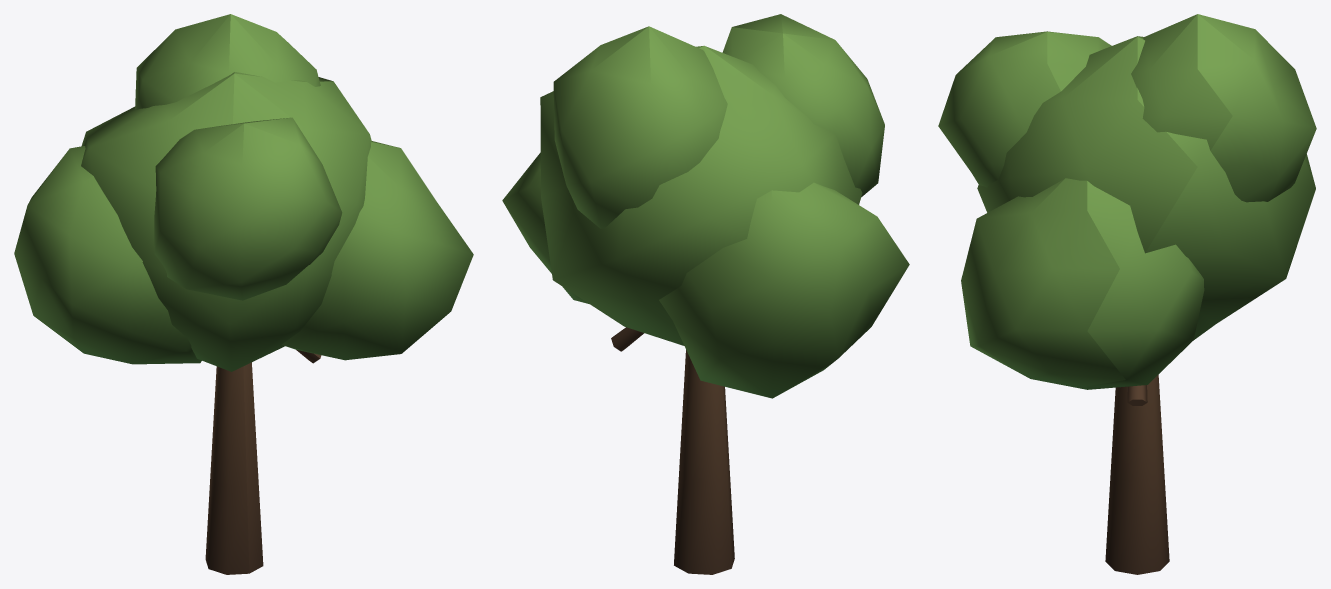
Rendered from tree-broadleaf.glb.
3 renders of one model, left to right at view 1: azimuth 30°, elevation 25°; view 2: azimuth 150°, elevation 25°; view 3: azimuth 270°, elevation 25°, orthographic. The views are drawn at different scales.
Visible parts, largest first — view 1: Broadleaf; view 2: Broadleaf; view 3: Broadleaf.
Part boxes in pixels (left/top/right/bottom): Broadleaf: left=14, top=14, right=473, bottom=574; Broadleaf: left=502, top=14, right=909, bottom=574; Broadleaf: left=938, top=14, right=1316, bottom=574.
Bounding box in the file's own units: 2.25 × 3.08 × 1.89.
